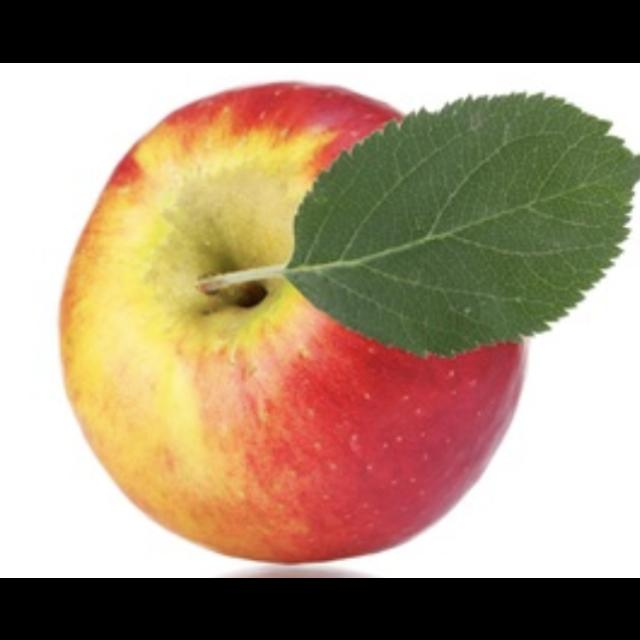Apel Segar: (56, 80, 639, 565)
